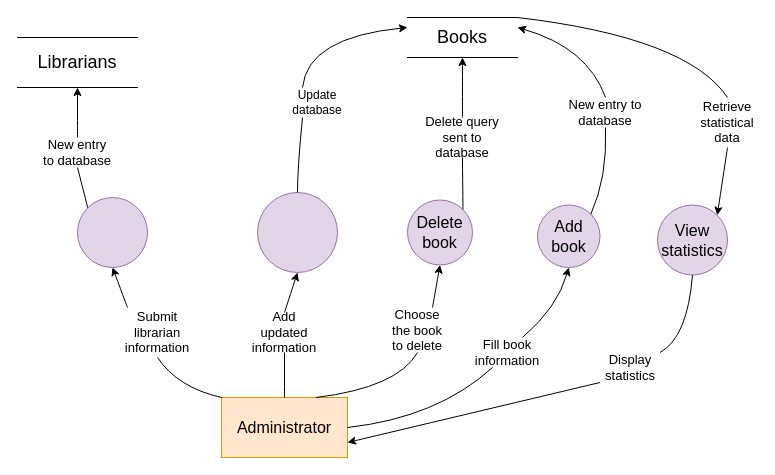
This 775x475 diagram has some shape labels left out. Each missing label, with the centre of its shape:
"Register librarian" goes at pixel 112 232.
"Update information" goes at pixel 297 232.
